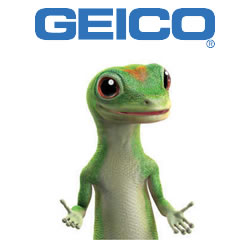geico: (33, 4, 224, 49)
